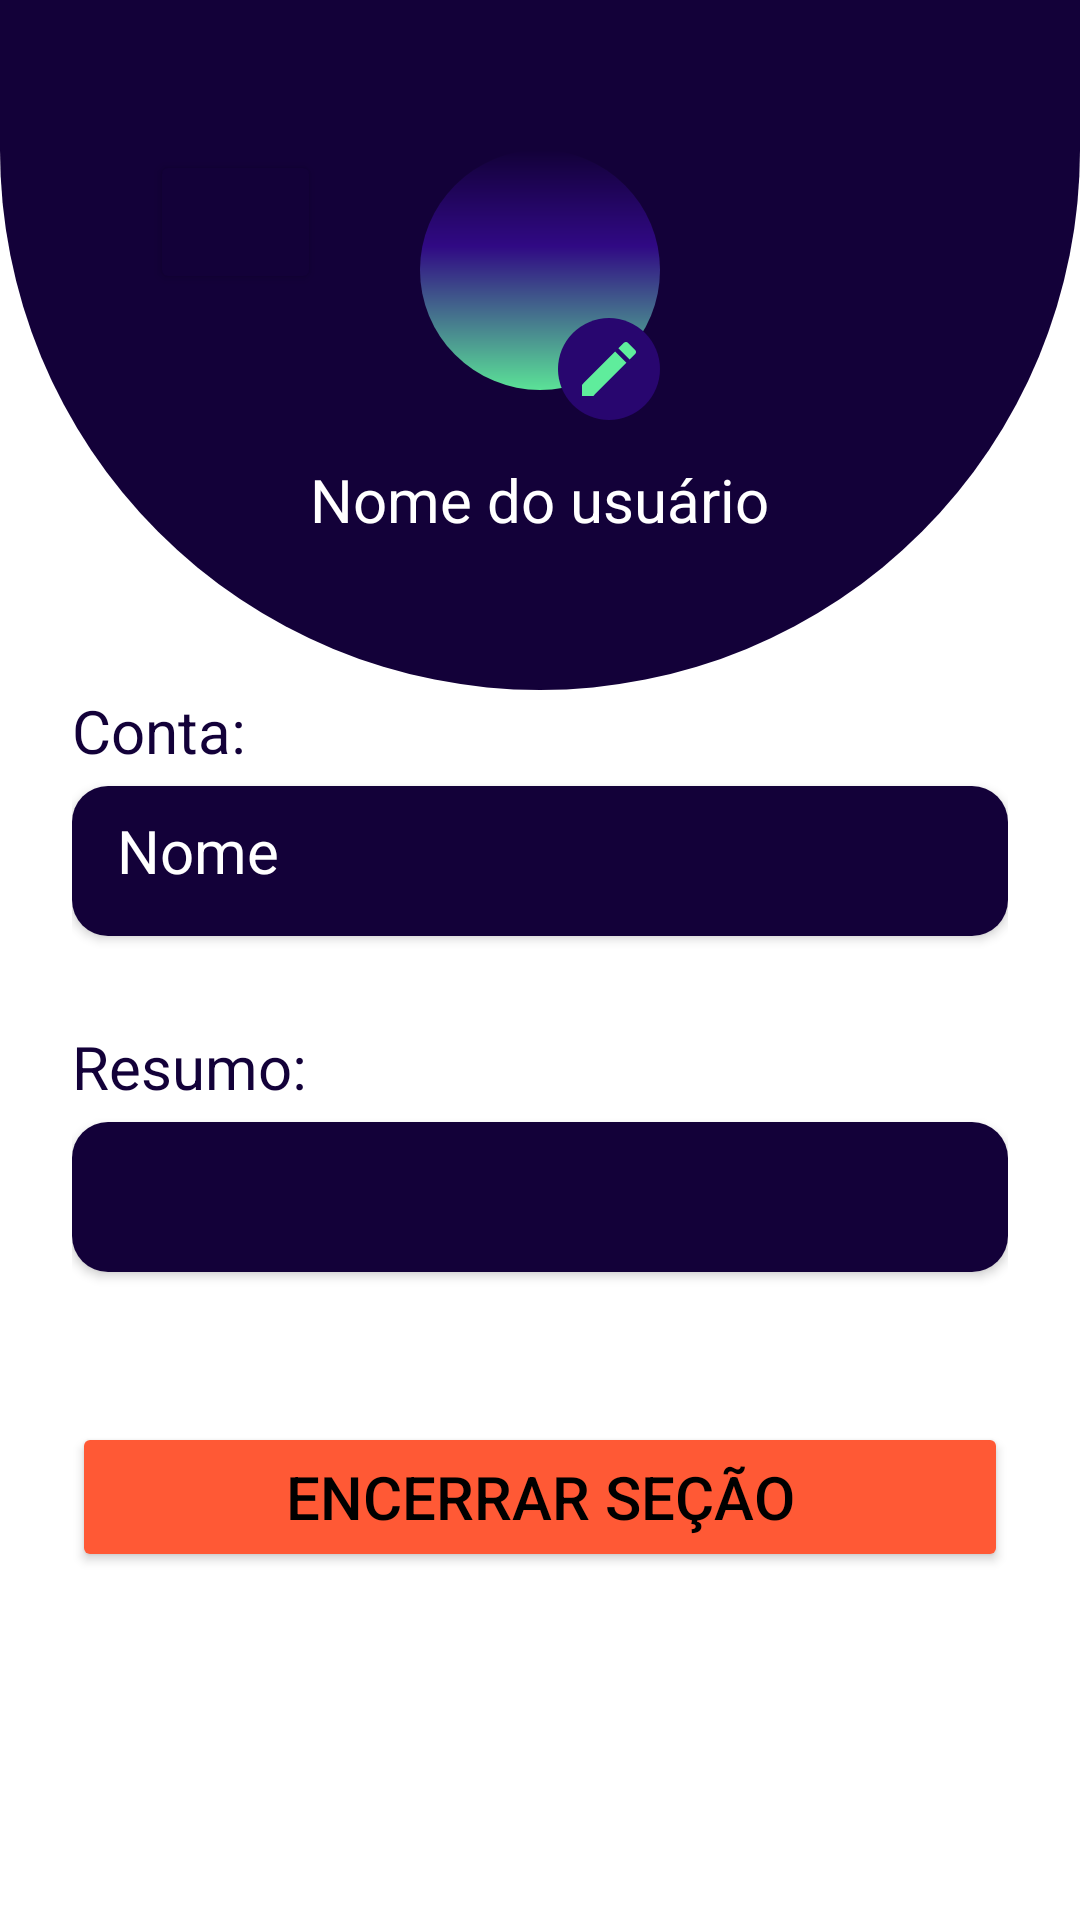

Named icons in this screenshot (1080px x 1920px) and their centers, [x,y]:
edit: [609,369]
